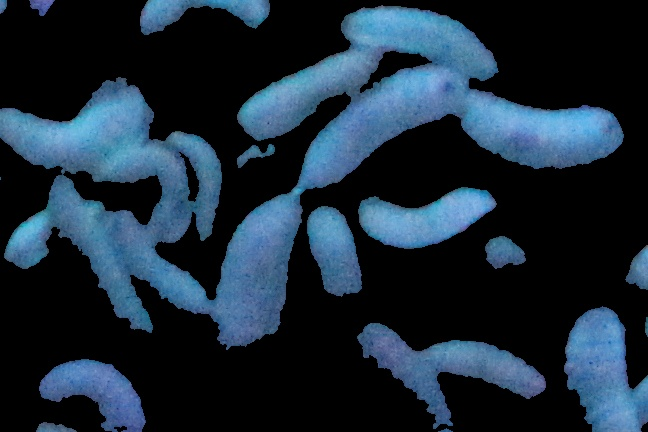larvae: (297, 67, 466, 189), (48, 177, 151, 331), (209, 196, 306, 356), (457, 85, 627, 168), (236, 51, 383, 135), (341, 5, 497, 80), (1, 96, 163, 164), (357, 321, 455, 432), (564, 301, 641, 432), (111, 212, 210, 309), (94, 141, 190, 238), (423, 336, 547, 408), (358, 184, 496, 247), (37, 357, 147, 428), (166, 129, 225, 239), (305, 201, 366, 304), (137, 1, 262, 44)
